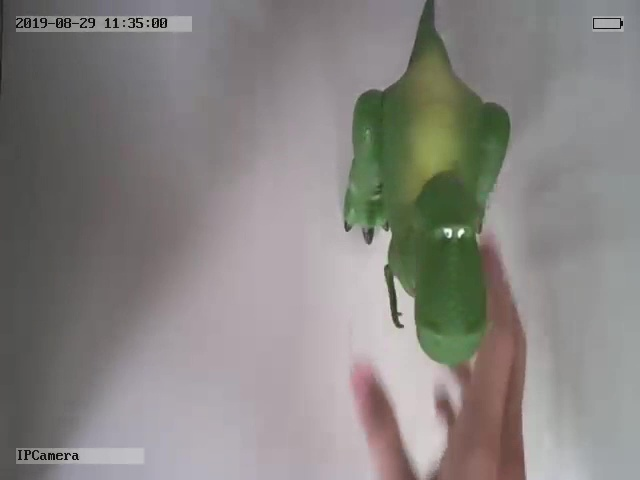rex: (343, 2, 515, 364)
